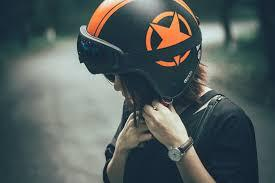helmet: (68, 0, 210, 103)
